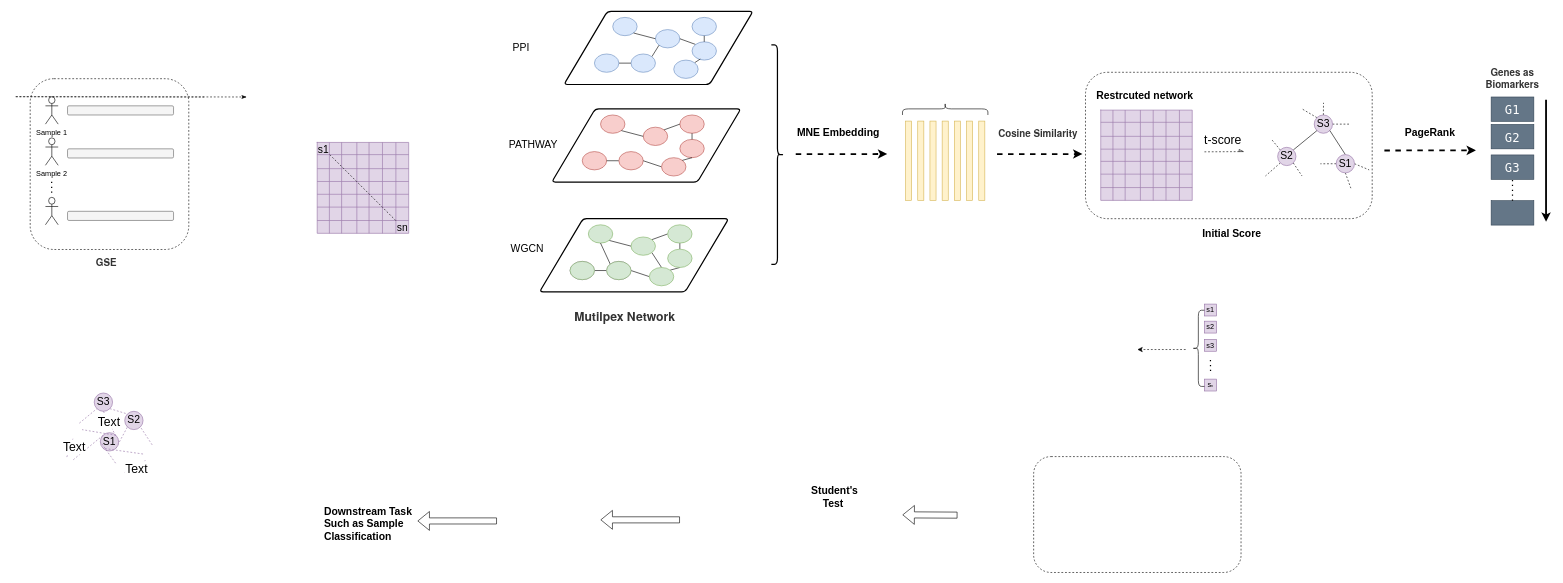
This 1563x583 diagram has some shape labels left out. Here are the shapes that lost their labels. From the top down, the centre of each, then its label:
pixel 945 108: Global Vector
pixel 51 211: Sample m
pixel 1512 212: Gn
